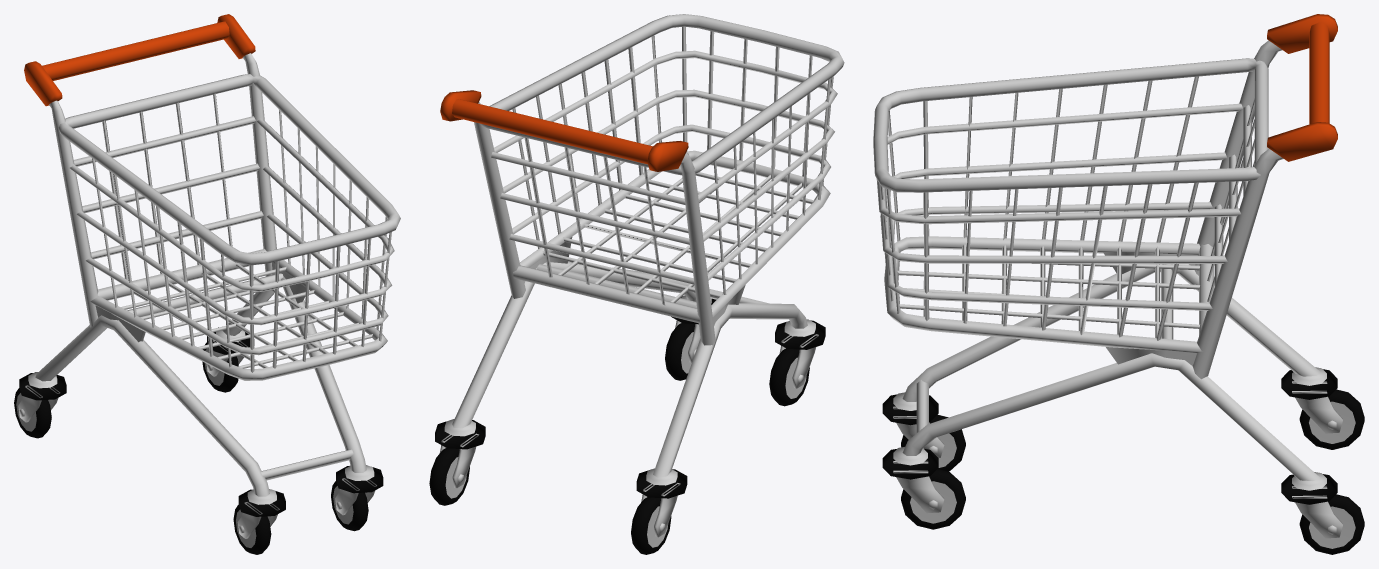
The model's file is Cart.dae.
3 renders of one model, left to right at view 1: azimuth 30°, elevation 25°; view 2: azimuth 150°, elevation 25°; view 3: azimuth 270°, elevation 25°, orthographic. The views are drawn at different scales.
Parts seen in each view (by area): view 1: Einkaufswagen; view 2: Einkaufswagen; view 3: Einkaufswagen.
Boxes of the visible parts, x1=… form: Einkaufswagen: x1=14, y1=14, x2=400, y2=554; Einkaufswagen: x1=429, y1=14, x2=844, y2=554; Einkaufswagen: x1=873, y1=14, x2=1364, y2=554.
Size of the model in its own units: 0.8633 by 1.35 by 1.4.
